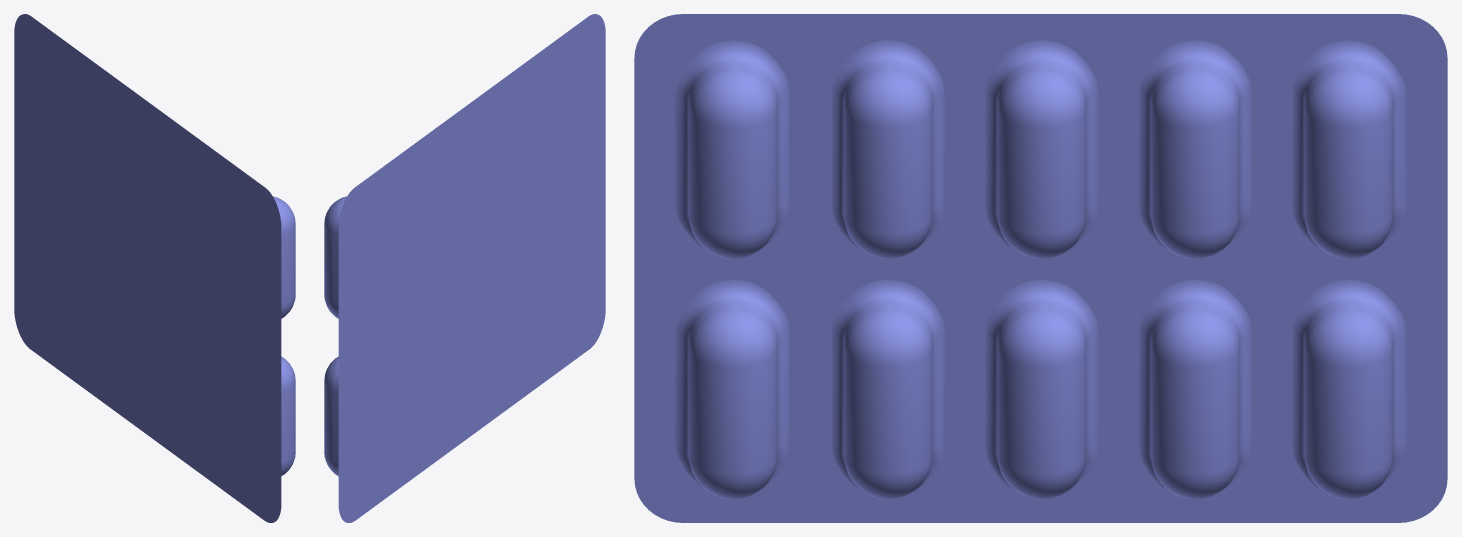
File: pills-colors.glb
3 renders of one model, left to right at view 1: azimuth 30°, elevation 25°; view 2: azimuth 150°, elevation 25°; view 3: azimuth 270°, elevation 25°, orthographic. The views are drawn at different scales.
Parts seen in each view (by area): view 1: Фольга_контур, Пластік_контур; view 2: Фольга_контур, Пластік_контур; view 3: Пластік_контур.
Boxes of the visible parts, left/top/right/bottom form: Фольга_контур: left=14, top=14, right=280, bottom=522; Пластік_контур: left=24, top=14, right=295, bottom=522; Фольга_контур: left=339, top=14, right=605, bottom=522; Пластік_контур: left=324, top=14, right=595, bottom=522; Пластік_контур: left=634, top=14, right=1447, bottom=522.
Bounding box in the file's own units: 0.449 × 3.26 × 4.73.
